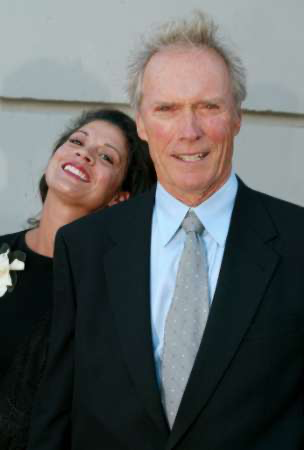Face: (134, 76, 244, 199), (34, 118, 134, 213)
